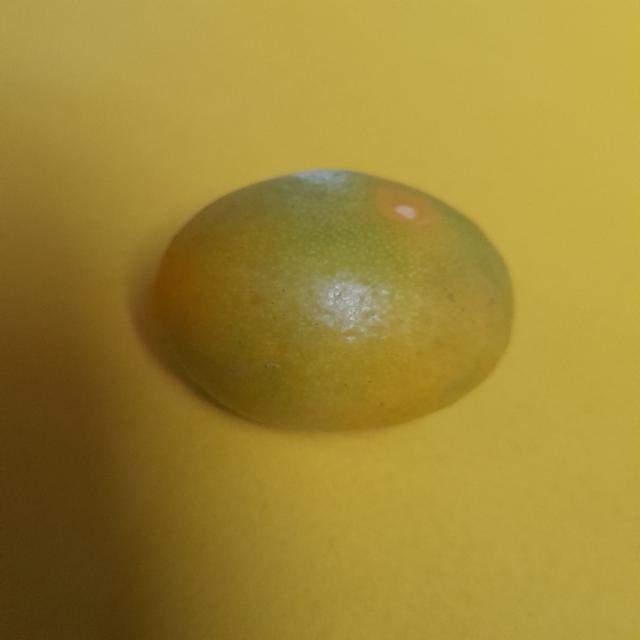greening: (153, 166, 523, 437)
